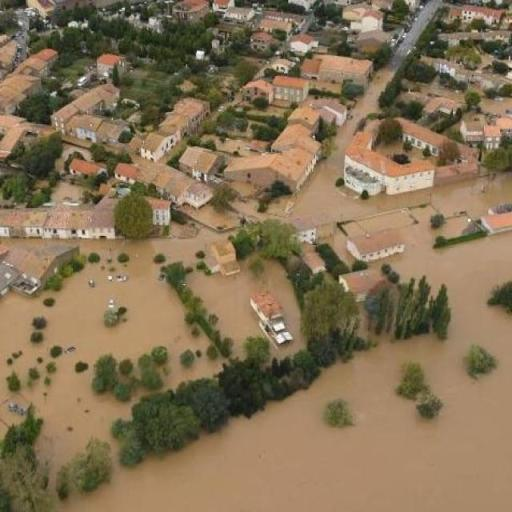flood: (57, 68, 512, 512), (0, 182, 308, 472), (340, 269, 383, 307)
house: (346, 149, 433, 200), (0, 203, 118, 239), (3, 242, 79, 292), (273, 138, 323, 190), (313, 51, 371, 95), (396, 117, 456, 159), (346, 229, 408, 264), (160, 97, 212, 138), (180, 144, 219, 180), (138, 127, 175, 163), (250, 289, 284, 323), (68, 112, 102, 144), (68, 158, 106, 183), (462, 3, 495, 29), (243, 79, 273, 105), (96, 53, 126, 79), (481, 212, 512, 236), (150, 197, 174, 228), (18, 58, 48, 80), (114, 162, 139, 187), (458, 120, 484, 144), (249, 30, 272, 56)
